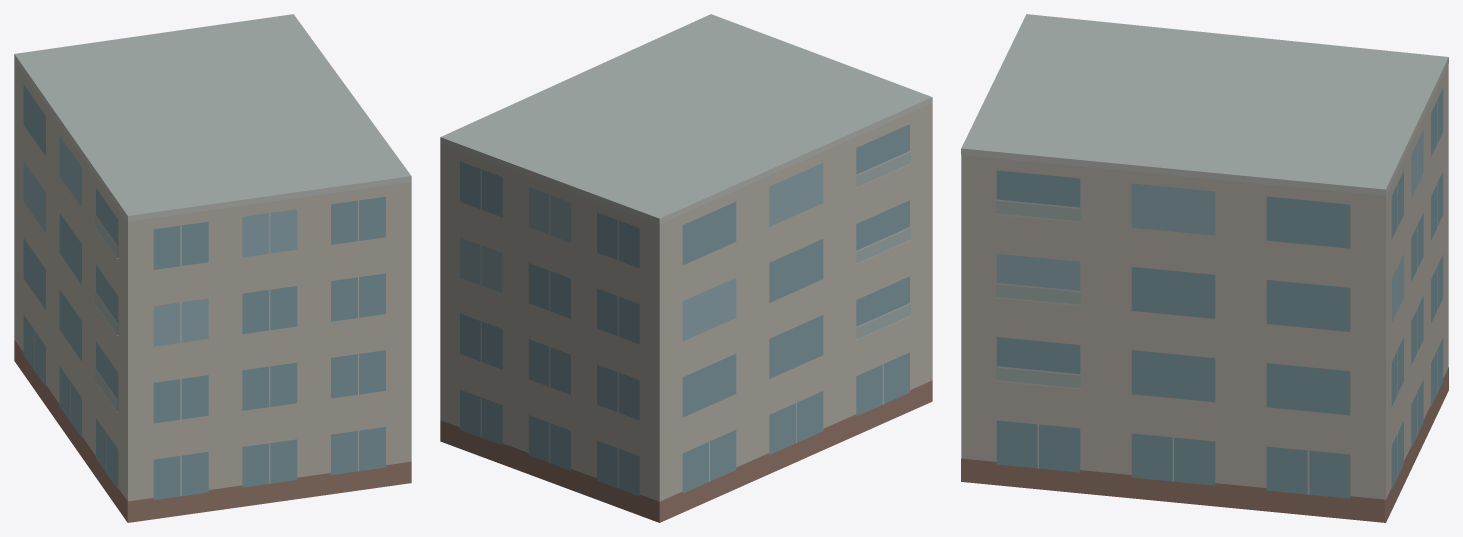
File: survey-upis-32704954.glb
3 views of the same model, side by side, from view 1: azimuth 30°, elevation 25°; view 2: azimuth 150°, elevation 25°; view 3: azimuth 270°, elevation 25° (orthographic). The views are drawn at different scales.
Parts seen in each view (by area): view 1: survey-upis-32704954.tmp; view 2: survey-upis-32704954.tmp; view 3: survey-upis-32704954.tmp.
Part boxes in pixels (box(x1,y1,x2,y2)): survey-upis-32704954.tmp: box(14, 14, 411, 522); survey-upis-32704954.tmp: box(440, 14, 932, 522); survey-upis-32704954.tmp: box(961, 14, 1448, 522).
Size of the model in its own units: 14.47 by 12.8 by 16.98.
